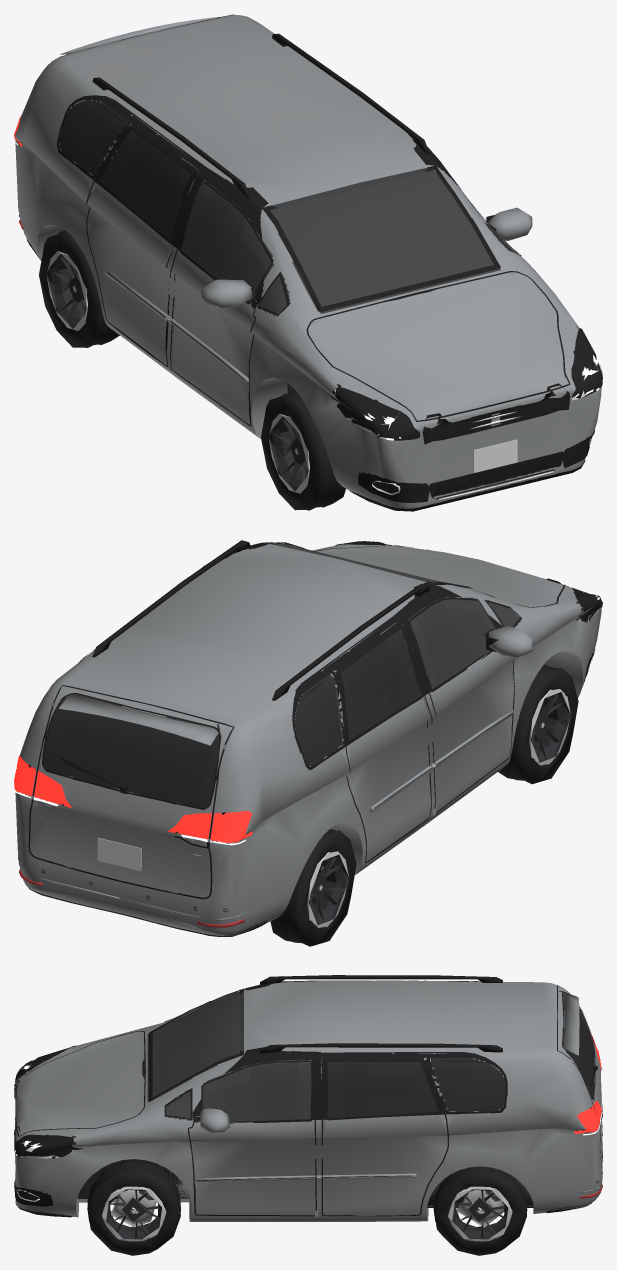
File: minivan-lod1.glb
The picture shows the model from 3 angles, top to bottom: view 1: azimuth 30°, elevation 25°; view 2: azimuth 150°, elevation 25°; view 3: azimuth 270°, elevation 25°; orthographic projection. The views are drawn at different scales.
Visible parts, largest first — view 1: Body, HoodSkin, Body_Lining, Body_Trim, Panel_RR, Panel_FR, Window_FR, Window_RR, Wheel_FR_Tyre, Window_FR_Lining, Wheel_RR_Tyre, Wheel_RR_Lip (+10 smaller); view 2: Body, TrunkSkin, Panel_FR, Panel_RR, HoodSkin, Body_Trim, Window_RR, Window_FR, TrunkSkin_Trim, Wheel_RR_Tyre, Wheel_FR_Tyre, Window_FR_Lining (+11 smaller); view 3: Body, Panel_RL, Panel_FL, HoodSkin, Body_Lining, Body_Trim, Window_RL, Window_FL, Wheel_FL_Tyre, Wheel_RL_Tyre, Window_FL_Lining, Panel_RL_Trim (+15 smaller).
Part boxes in pixels (x1=…): Body: x1=15, y1=15, x2=601, y2=509; HoodSkin: x1=308, y1=273, x2=568, y2=420; Body_Lining: x1=60, y1=102, x2=565, y2=385; Body_Trim: x1=14, y1=95, x2=602, y2=511; Panel_RR: x1=87, y1=135, x2=171, y2=364; Panel_FR: x1=171, y1=249, x2=254, y2=424; Window_FR: x1=181, y1=183, x2=273, y2=302; Window_RR: x1=99, y1=131, x2=191, y2=240; Wheel_FR_Tyre: x1=261, y1=391, x2=345, y2=510; Window_FR_Lining: x1=193, y1=189, x2=267, y2=302; Wheel_RR_Tyre: x1=39, y1=231, x2=119, y2=347; Wheel_RR_Lip: x1=46, y1=251, x2=87, y2=330; Body: x1=15, y1=542, x2=601, y2=936; TrunkSkin: x1=30, y1=687, x2=231, y2=897; Panel_FR: x1=430, y1=651, x2=516, y2=811; Panel_RR: x1=346, y1=630, x2=430, y2=861; HoodSkin: x1=317, y1=546, x2=563, y2=607; Body_Trim: x1=14, y1=541, x2=602, y2=936; Window_RR: x1=341, y1=629, x2=420, y2=739; Window_FR: x1=410, y1=599, x2=493, y2=692; TrunkSkin_Trim: x1=28, y1=685, x2=234, y2=899; Wheel_RR_Tyre: x1=270, y1=829, x2=356, y2=946; Wheel_FR_Tyre: x1=498, y1=664, x2=578, y2=784; Window_FR_Lining: x1=415, y1=601, x2=489, y2=682; Body: x1=15, y1=980, x2=602, y2=1221; Panel_RL: x1=324, y1=1114, x2=447, y2=1215; Panel_FL: x1=190, y1=1117, x2=314, y2=1215; HoodSkin: x1=16, y1=1032, x2=142, y2=1135; Body_Lining: x1=25, y1=994, x2=582, y2=1215; Body_Trim: x1=14, y1=980, x2=599, y2=1217; Window_RL: x1=327, y1=1062, x2=438, y2=1117; Window_FL: x1=203, y1=1062, x2=311, y2=1121; Wheel_FL_Tyre: x1=87, y1=1160, x2=180, y2=1255; Wheel_RL_Tyre: x1=433, y1=1166, x2=527, y2=1255; Window_FL_Lining: x1=204, y1=1062, x2=296, y2=1120; Panel_RL_Trim: x1=321, y1=1056, x2=448, y2=1216.
Bounding box in the file's own units: 2.3 × 1.69 × 4.56.
